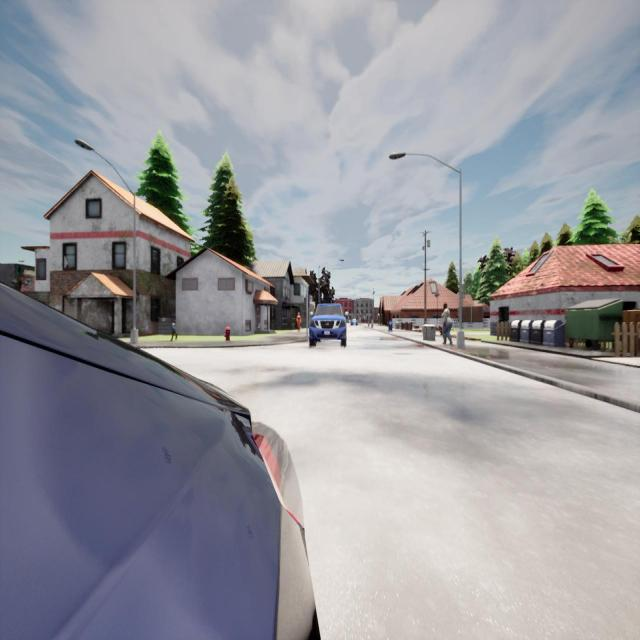Pedestrian: (441, 303, 453, 344), (171, 318, 177, 341), (296, 312, 301, 331)
Vehicle: (0, 285, 318, 638), (309, 304, 346, 346), (351, 319, 357, 326)
